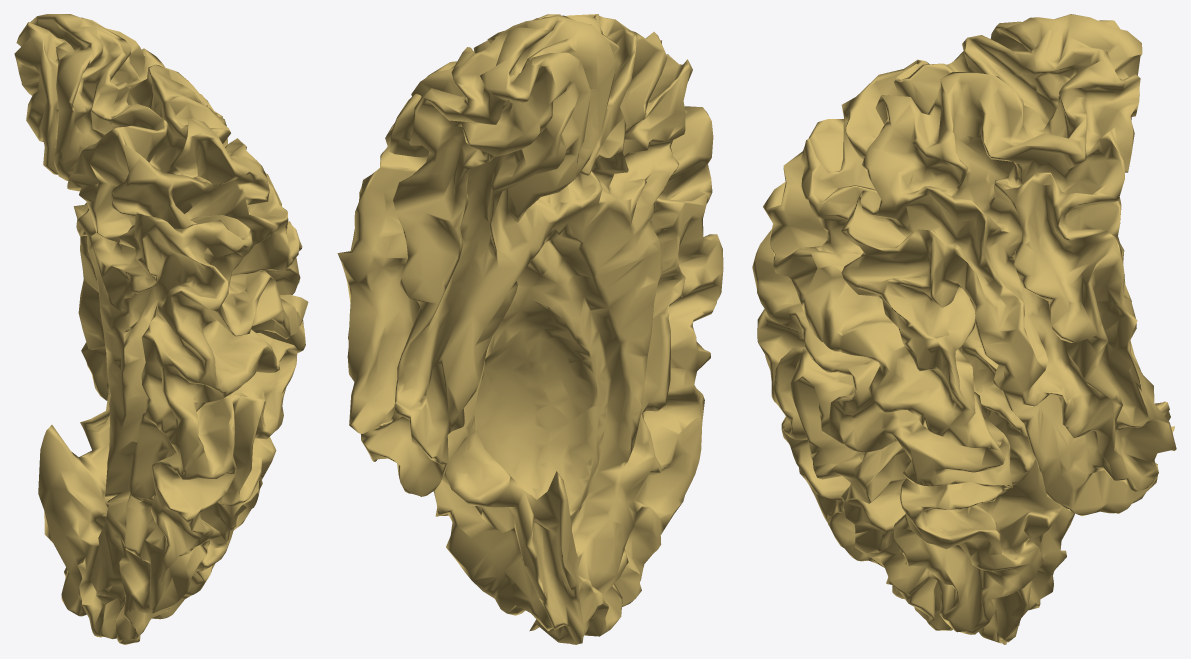
The picture shows the model from 3 angles, left to right: view 1: azimuth 30°, elevation 25°; view 2: azimuth 150°, elevation 25°; view 3: azimuth 270°, elevation 25°; orthographic projection. The views are drawn at different scales.
Parts seen in each view (by area): view 1: 左侧端脑白质; view 2: 左侧端脑白质; view 3: 左侧端脑白质.
Boxes of the visible parts, x1,y1,x2,y2 form: 左侧端脑白质: [14, 14, 308, 644]; 左侧端脑白质: [337, 14, 723, 644]; 左侧端脑白质: [752, 14, 1176, 644].
Bounding box in the file's own units: 0.0938 × 0.2577 × 0.1615.
